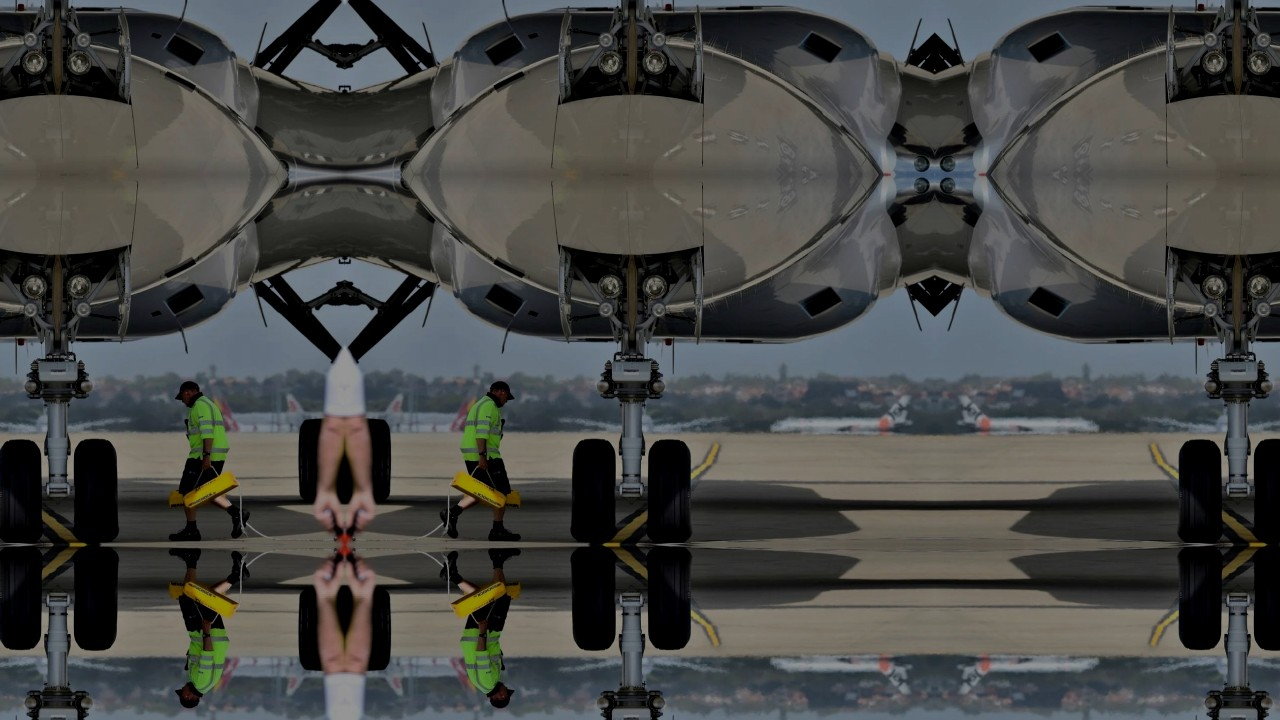chock: (180, 470, 240, 509), (449, 470, 509, 509), (180, 582, 240, 620), (449, 582, 509, 620), (168, 488, 225, 506), (464, 488, 521, 506), (168, 584, 225, 602), (464, 584, 521, 602)
wheel: (72, 439, 118, 542), (571, 439, 617, 542), (1176, 439, 1222, 542), (72, 548, 118, 651), (571, 548, 617, 651), (1176, 548, 1222, 651), (648, 439, 693, 542), (648, 548, 693, 651), (0, 439, 41, 542), (0, 548, 41, 651), (1253, 439, 1280, 542), (1253, 548, 1280, 651), (368, 419, 392, 501), (368, 589, 392, 671), (297, 419, 320, 501), (297, 589, 320, 671)
